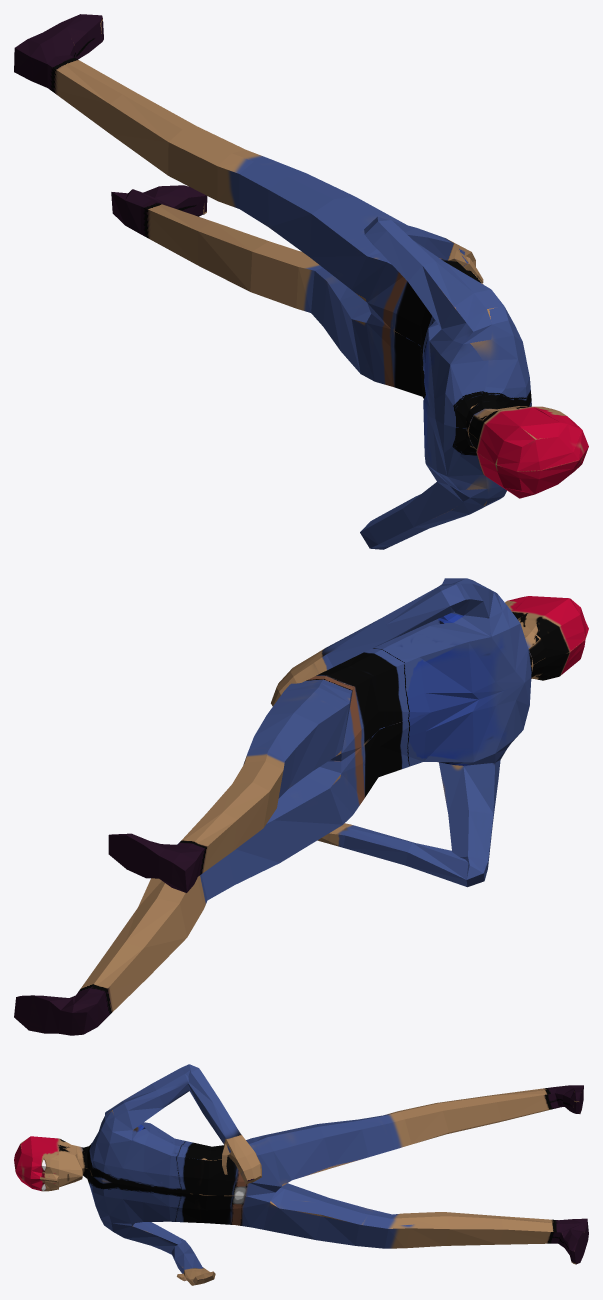
The model's file is mirrorman_000015.obj.
3 renders of one model, top to bottom at view 1: azimuth 30°, elevation 25°; view 2: azimuth 150°, elevation 25°; view 3: azimuth 270°, elevation 25°, orthographic. The views are drawn at different scales.
Visible parts, largest first — view 1: mirrorman_Cube.001_Material.001; view 2: mirrorman_Cube.001_Material.001; view 3: mirrorman_Cube.001_Material.001.
Boxes of the visible parts, box(x1,y1,x2,y2) form: mirrorman_Cube.001_Material.001: box(14, 14, 588, 549); mirrorman_Cube.001_Material.001: box(14, 578, 588, 1035); mirrorman_Cube.001_Material.001: box(14, 1064, 588, 1285).
Bounding box in the file's own units: 0.4979 × 0.697 × 1.87.
1 material, 1 textured.
